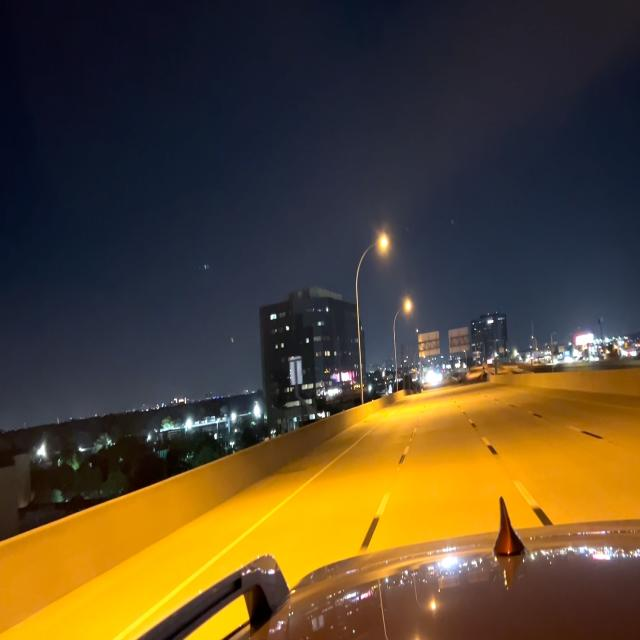back-of-sign: (448, 324, 471, 355), (418, 327, 442, 356), (288, 353, 304, 389)
